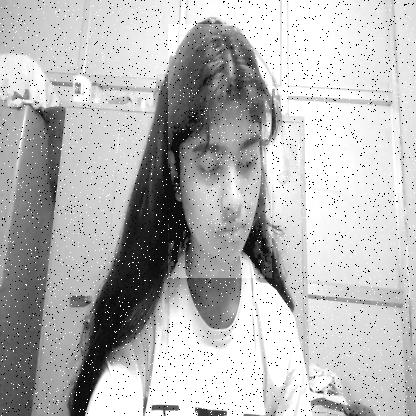Distracted: (168, 24, 272, 278)
